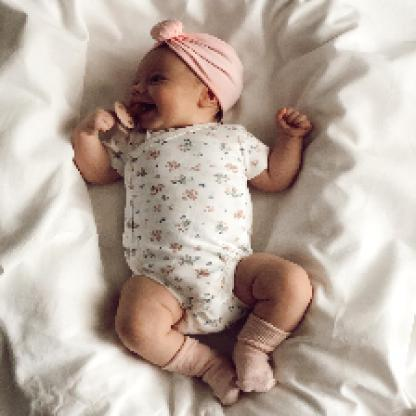child: (72, 19, 316, 407)
